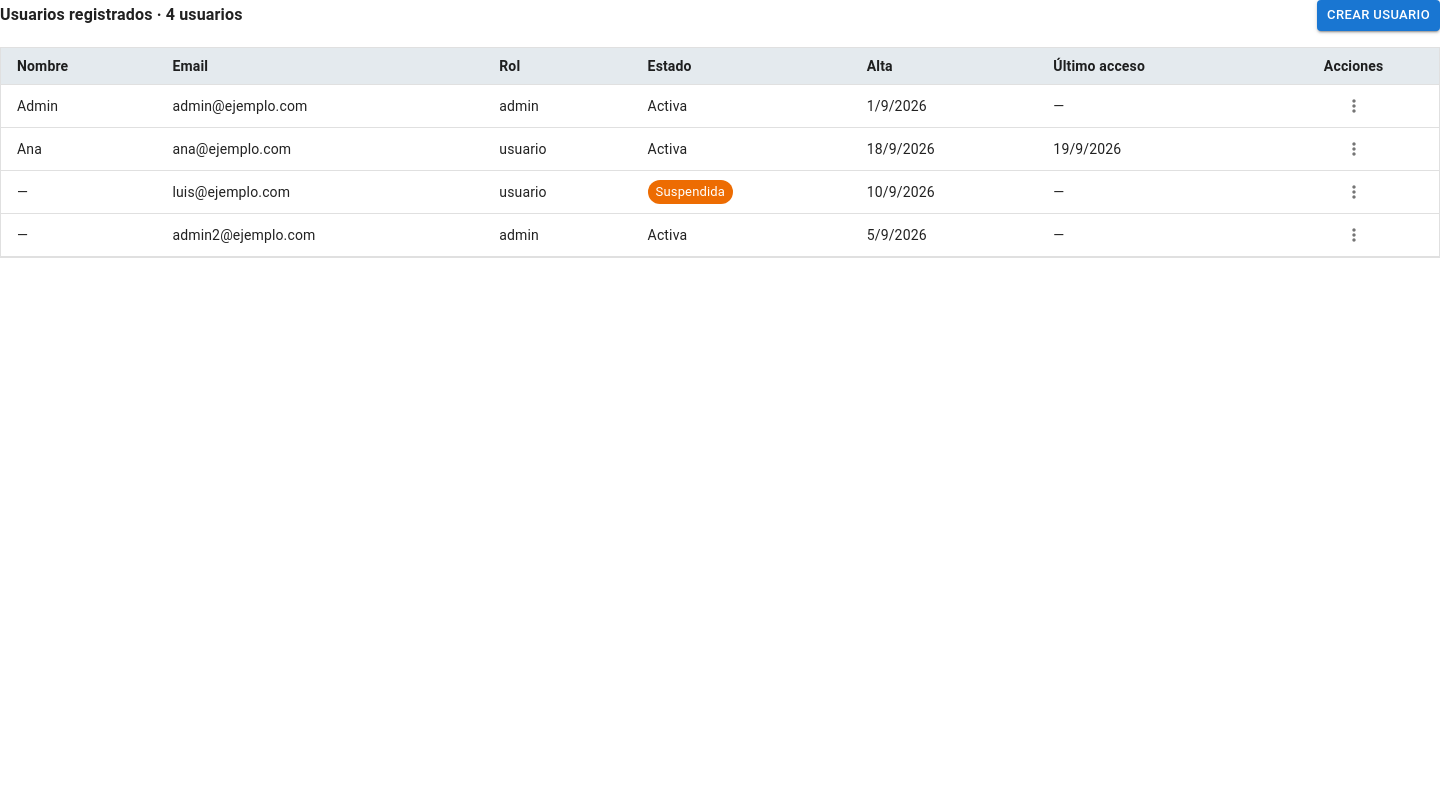
Test: AdminUsers (ADM-03) › si el email ya existe al crear, lo dice
Expected: the text "ana@ejemplo.com" is shown, [156,127,483,170]
Click the button "Crear usuario".
click(1379, 15)  # box [1317,0,1439,31]
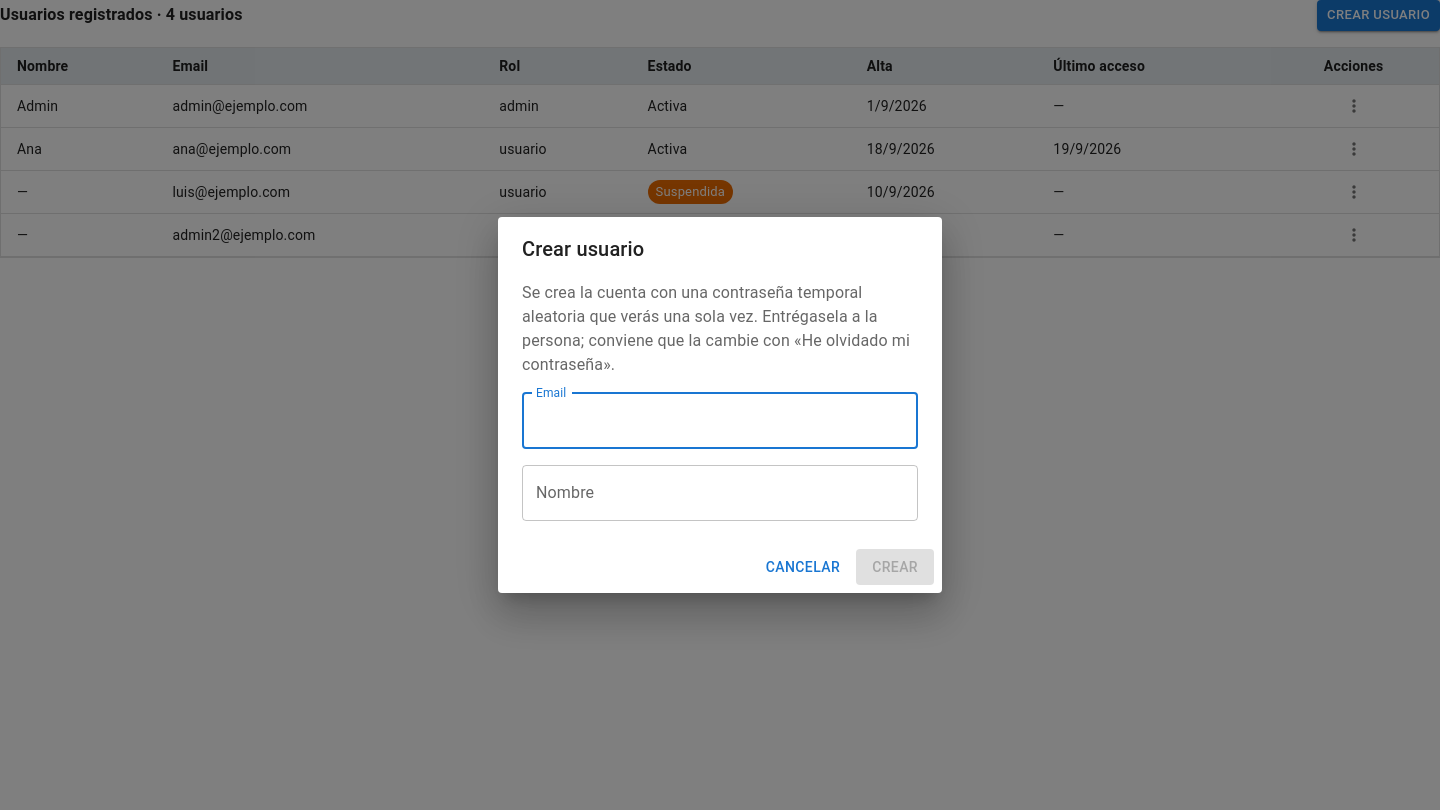
Type "ana@ejemplo.com" into the field labelled "Email".
click(720, 421); type("ana@ejemplo.com")  # box [522,393,918,449]
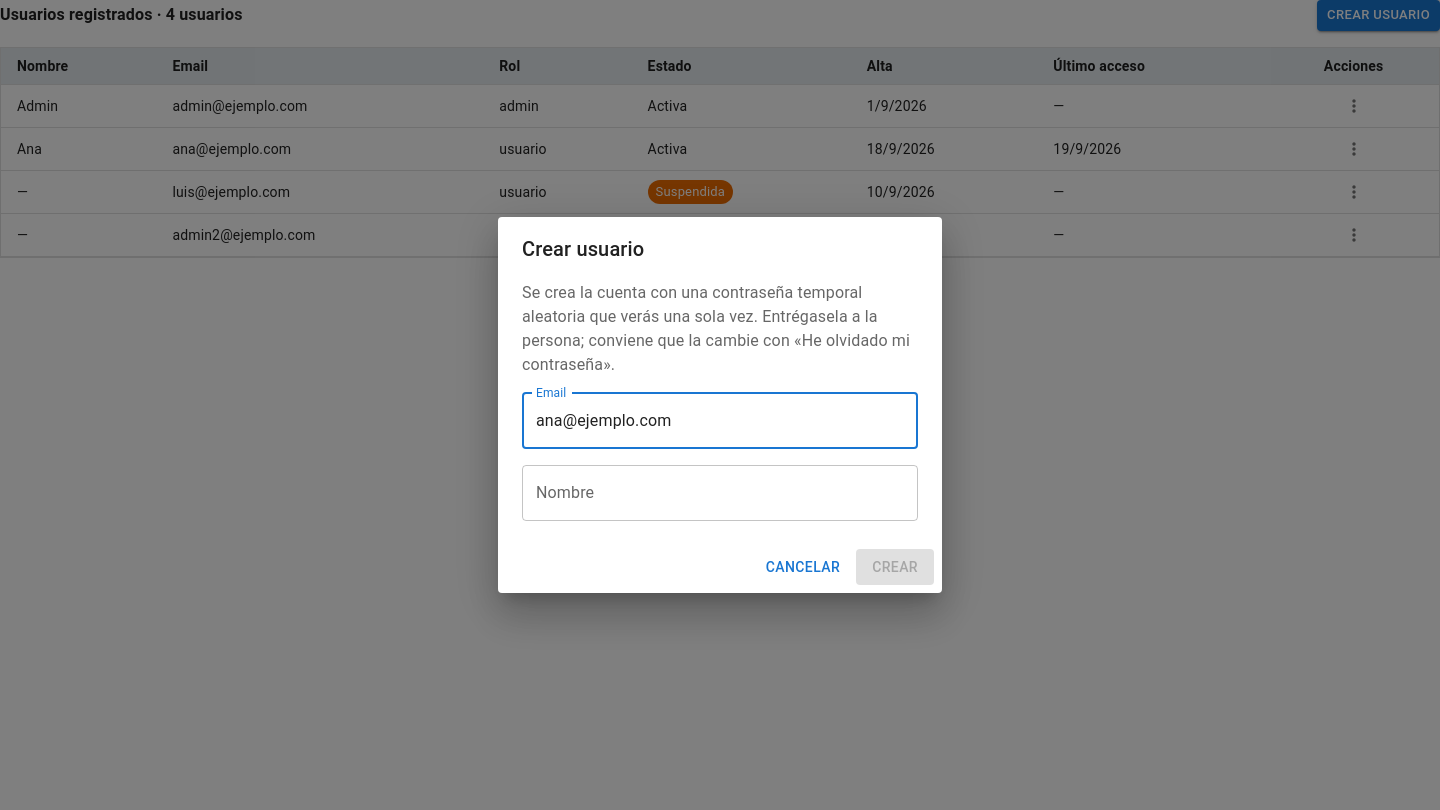
Type "Otra" into the field labelled "Nombre".
click(720, 493); type("Otra")  # box [522,465,918,521]
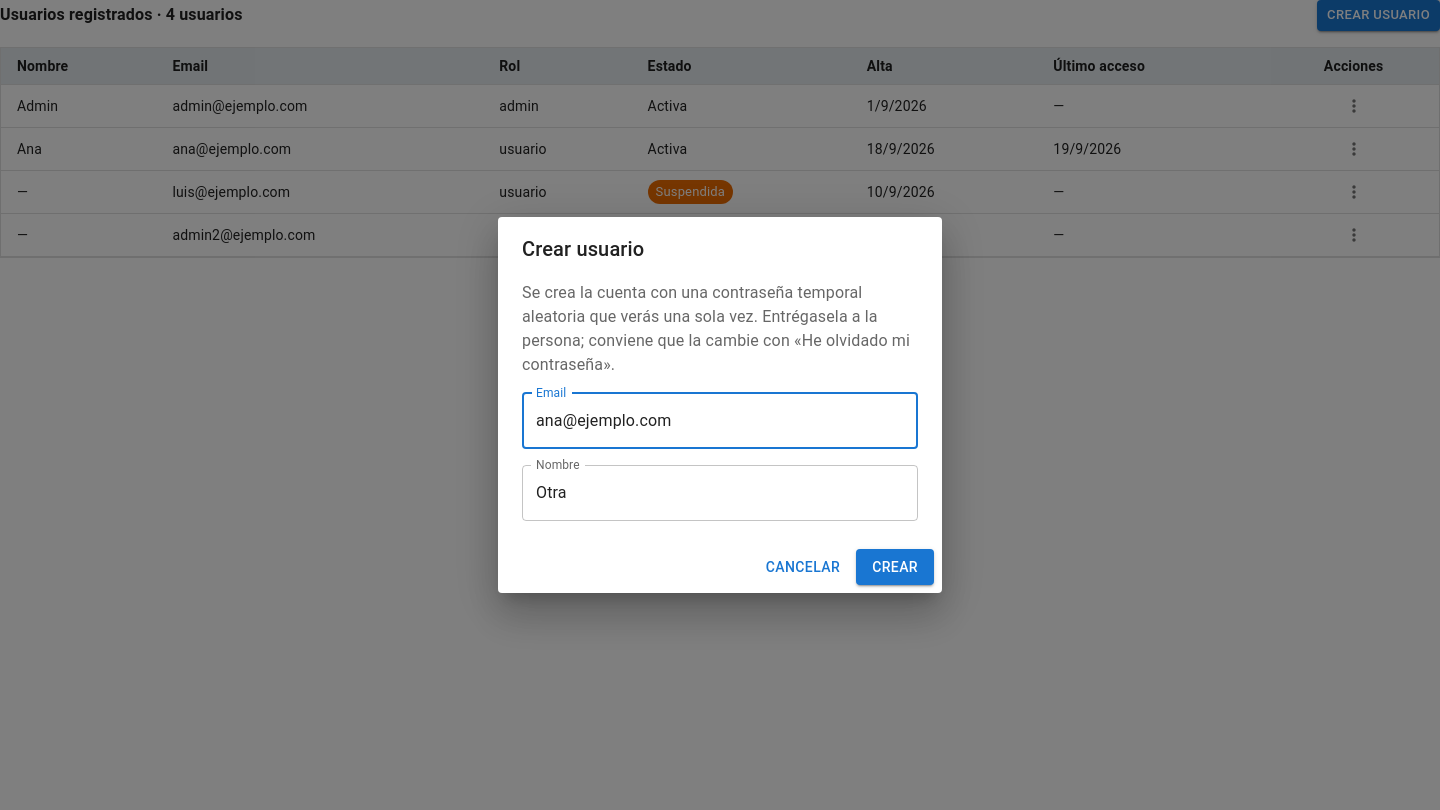
Click the button "Crear".
click(895, 567)  # box [856,549,934,585]
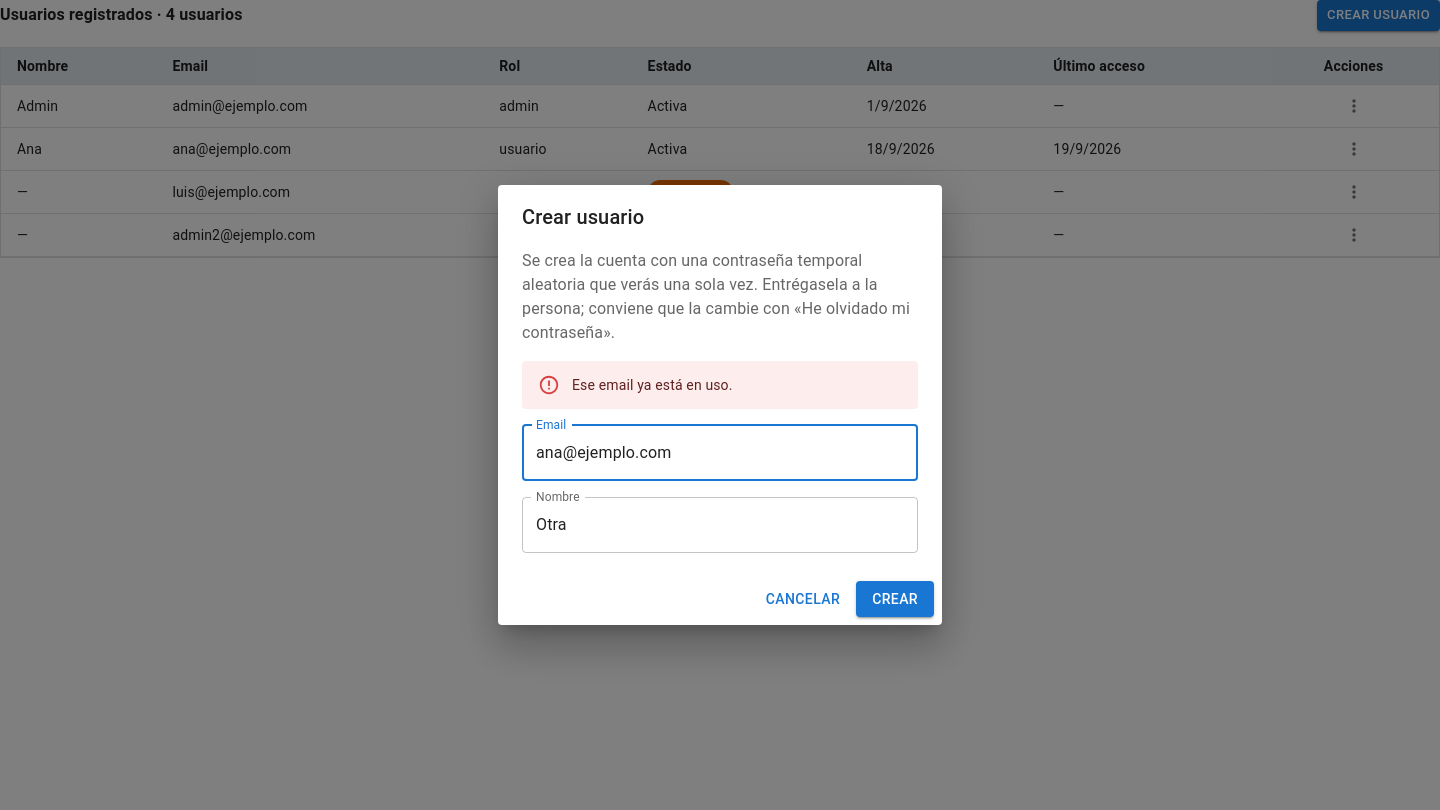
Result: the text "Ese email ya está en uso." is shown at [572,377,733,393]
